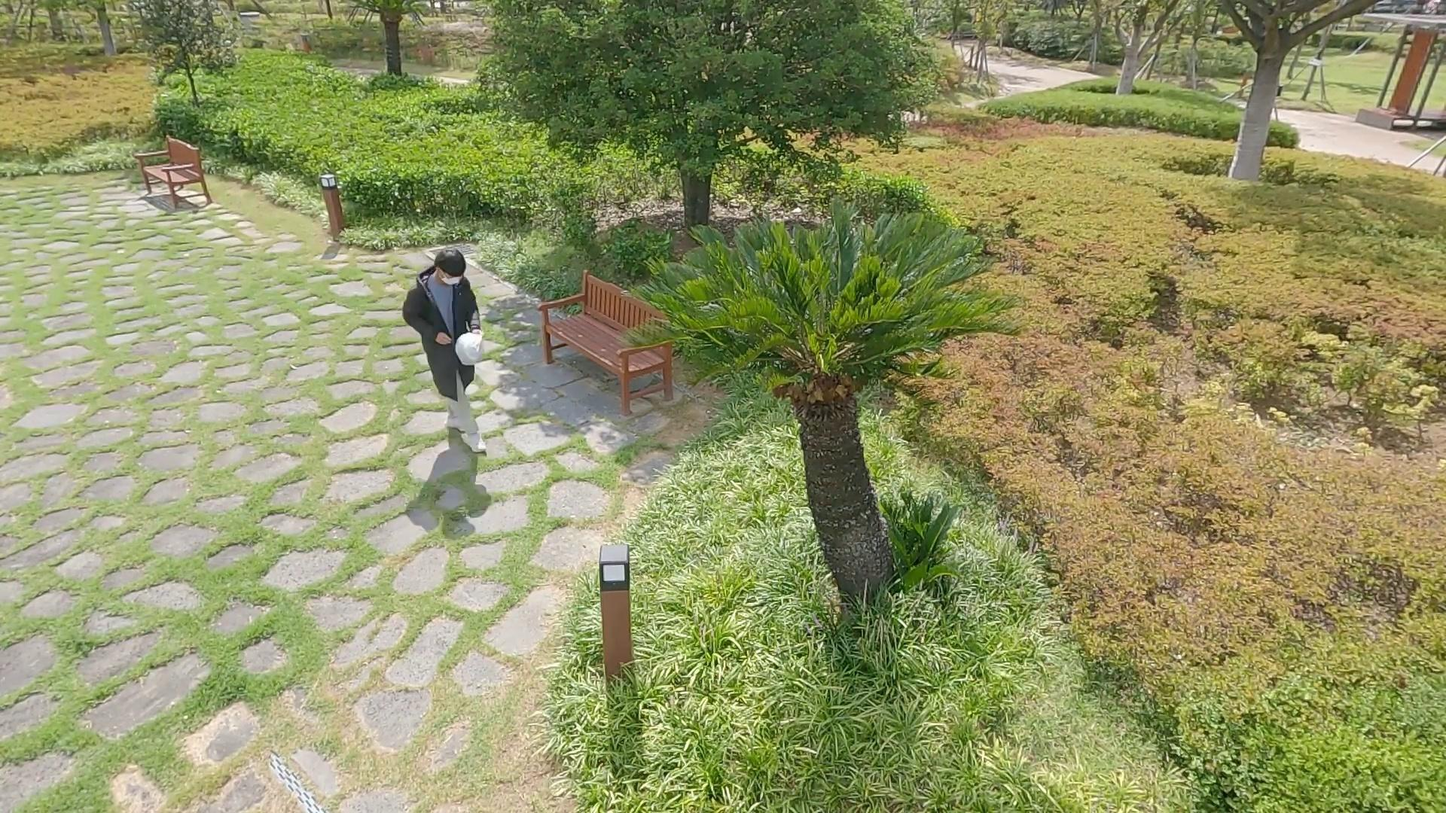person: (398, 240, 492, 460)
trash: (450, 327, 488, 374)
